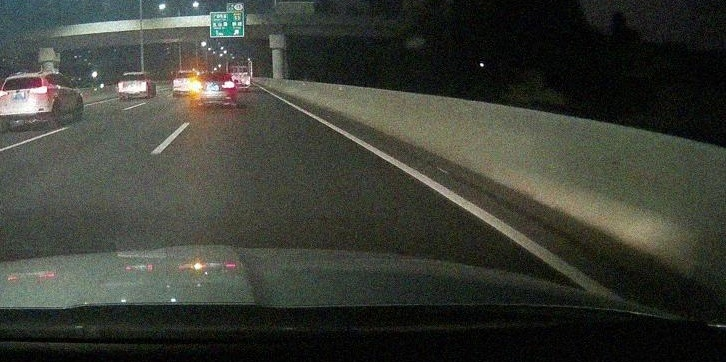L_light: (0, 90, 9, 97), (191, 83, 201, 88), (118, 83, 123, 86)
R_light: (32, 86, 48, 94), (222, 82, 234, 88), (140, 82, 146, 85)
T_light: (17, 77, 28, 80), (210, 73, 218, 76), (129, 74, 135, 76)
night-left: (190, 72, 236, 108)
night-no: (0, 72, 50, 125), (118, 72, 147, 99)
